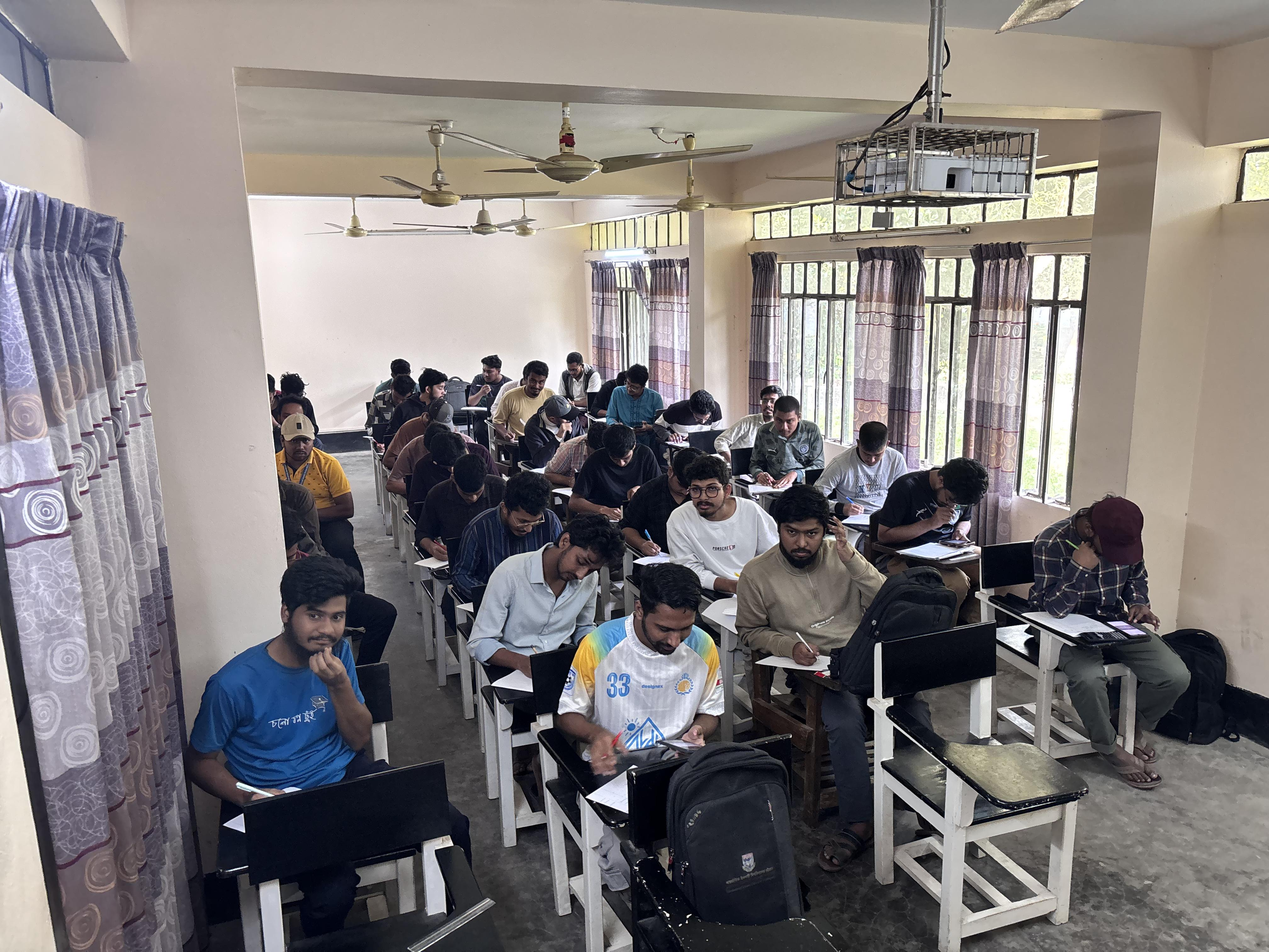no_cheating: (469, 538, 625, 679), (441, 487, 556, 588), (584, 423, 653, 516), (280, 416, 346, 513), (636, 387, 726, 451), (828, 420, 904, 495), (760, 388, 818, 480), (426, 459, 496, 534), (642, 439, 705, 511), (502, 361, 560, 431), (408, 443, 474, 499), (556, 355, 610, 422), (611, 357, 658, 422), (743, 380, 779, 423)
side_talking: (392, 363, 457, 409), (467, 352, 515, 407)
suspicious_moving: (203, 558, 387, 854), (751, 494, 873, 661), (657, 463, 770, 588)
using_phone: (551, 563, 722, 841), (1012, 487, 1167, 700), (878, 454, 994, 579)
